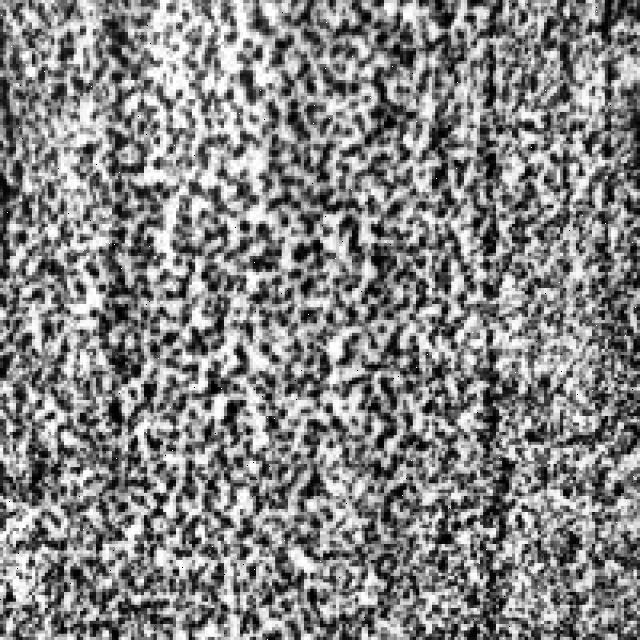Rolled_in_Scale: (7, 0, 640, 630)
